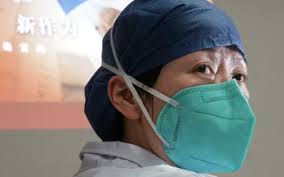with-mask: (106, 9, 259, 177)
